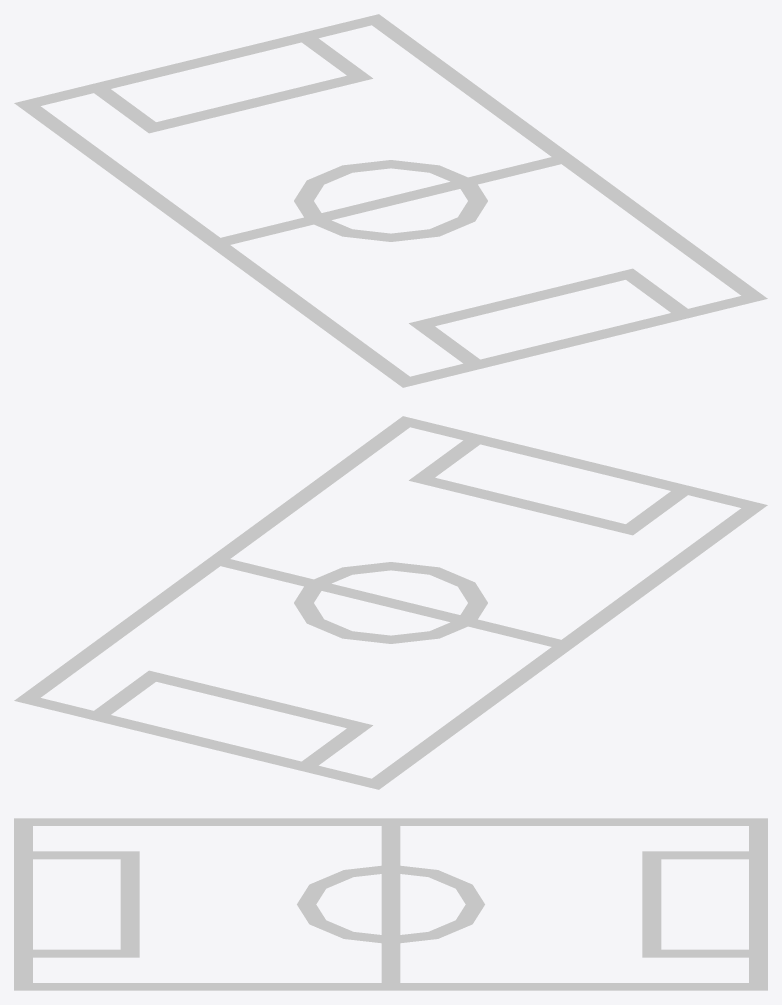
File: Item_Line.FBX
3 renders of one model, top to bottom at view 1: azimuth 30°, elevation 25°; view 2: azimuth 150°, elevation 25°; view 3: azimuth 270°, elevation 25°, orthographic. The views are drawn at different scales.
Parts seen in each view (by area): view 1: Item_Line; view 2: Item_Line; view 3: Item_Line.
Part boxes in pixels (<box>): Item_Line: <box>14,14,767,387</box>; Item_Line: <box>14,416,767,789</box>; Item_Line: <box>14,818,767,990</box>.
Bounding box in the file's own units: 1300 × 6.8e-13 × 2400.
